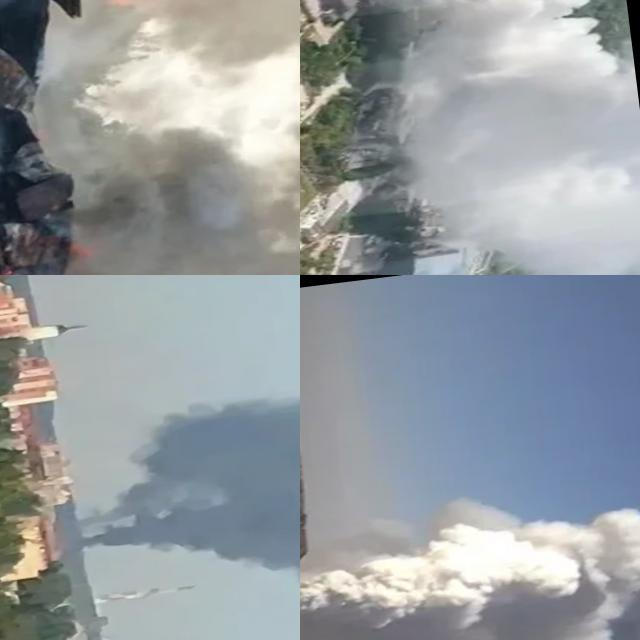smoke: (0, 0, 300, 275), (353, 0, 640, 275), (300, 408, 640, 640), (69, 377, 300, 613)
